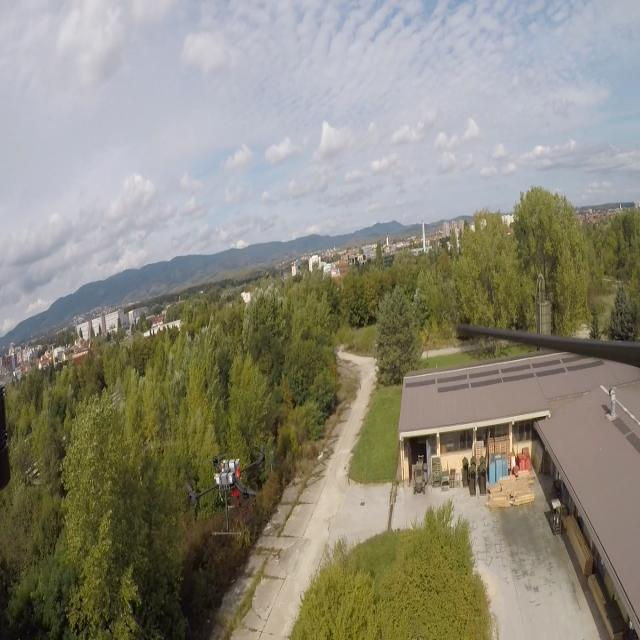UAV: (186, 442, 266, 537)
